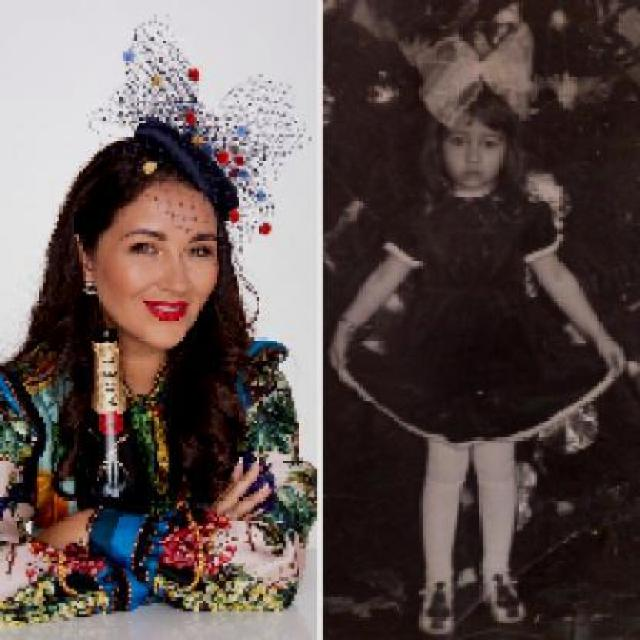child: (328, 22, 628, 638)
